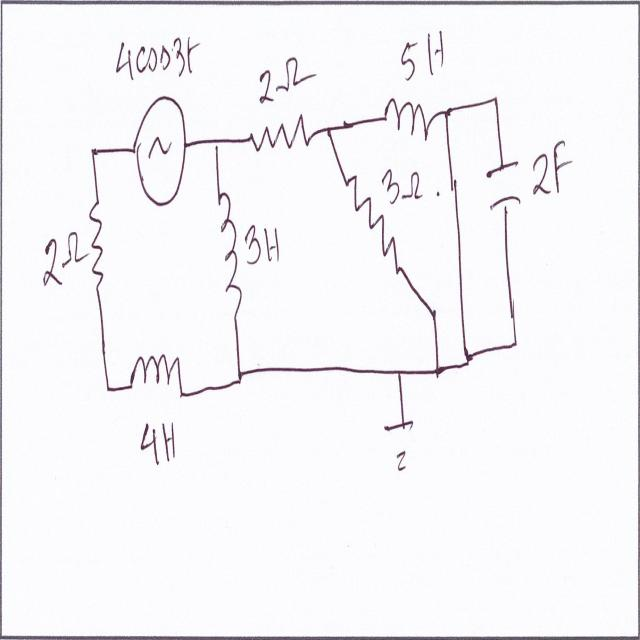capacitor: (480, 154, 524, 217)
current_source: (130, 90, 188, 211)
ground: (381, 417, 424, 486)
inductor: (127, 344, 190, 419), (213, 186, 245, 313), (382, 90, 434, 147)
resistor: (340, 176, 400, 293), (250, 116, 310, 161), (86, 197, 109, 300)
